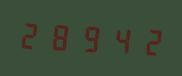eight: (47, 17, 75, 55)
four: (105, 20, 133, 58)
nine: (76, 19, 104, 56)
two: (18, 16, 46, 53), (134, 22, 162, 59)
